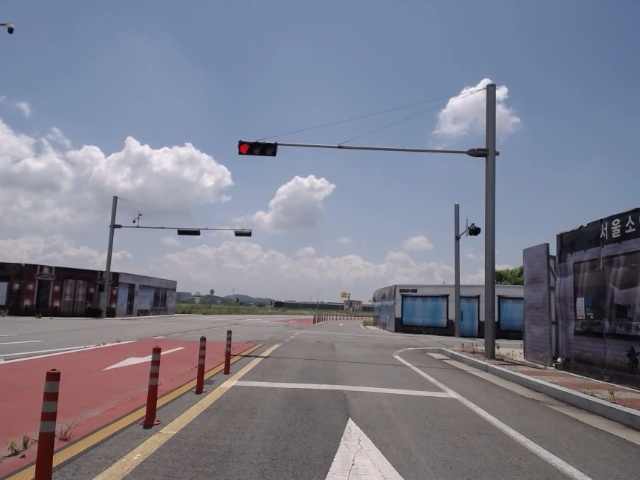red_3: (238, 143, 278, 156)
